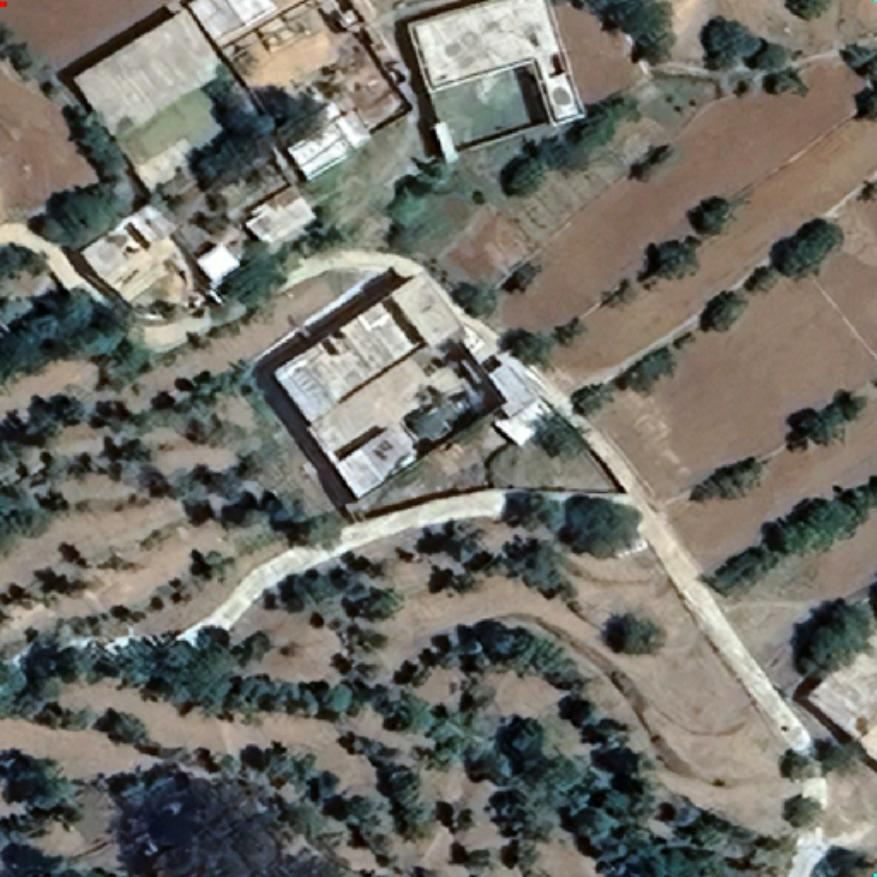Solarpanel: (365, 435, 399, 467)
